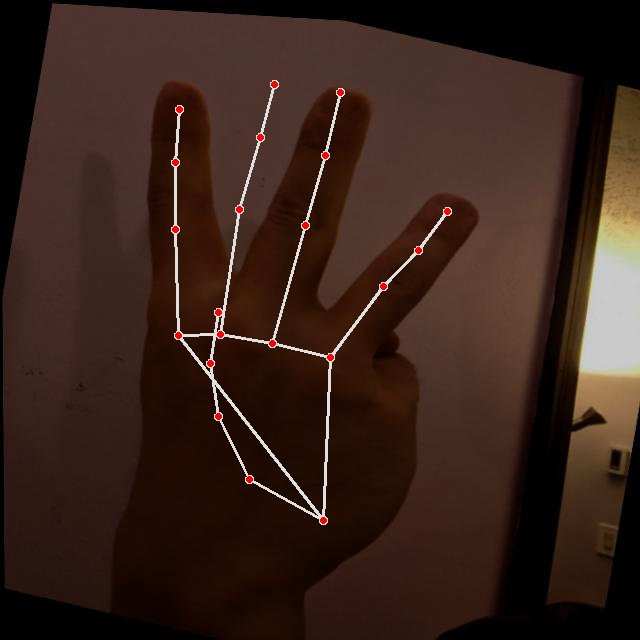W: (62, 25, 510, 628)
